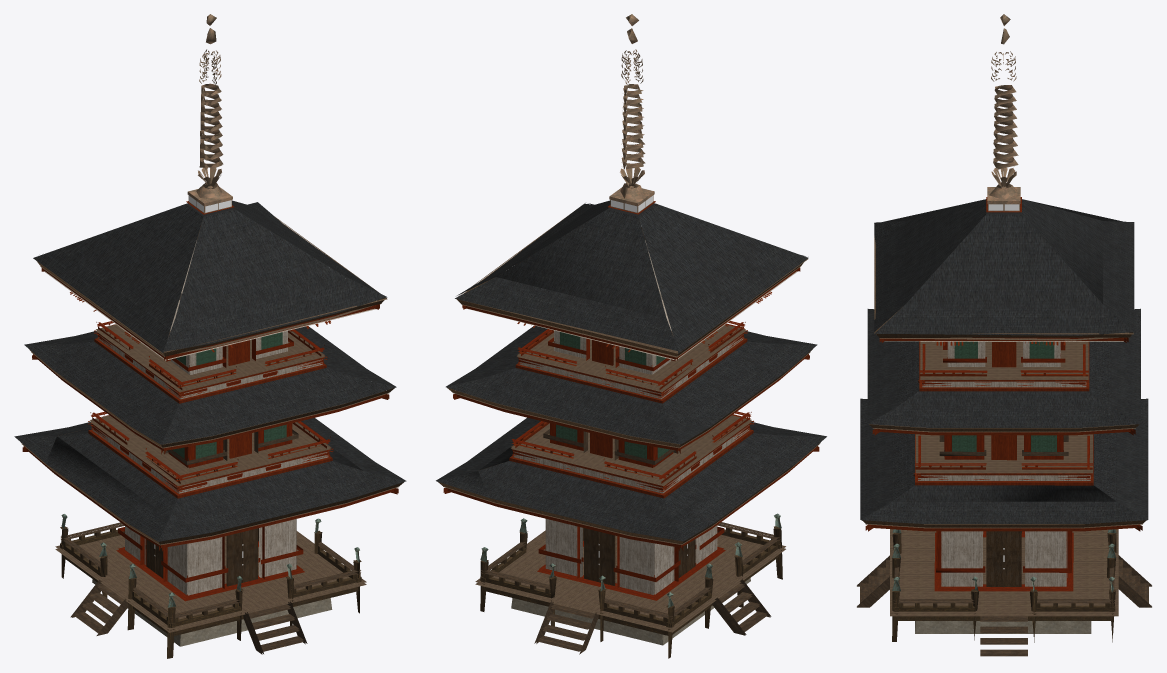
Rendered from Pagoda_Sanju_13m.gltf.
3 views of the same model, side by side, from view 1: azimuth 30°, elevation 25°; view 2: azimuth 150°, elevation 25°; view 3: azimuth 270°, elevation 25° (orthographic).
Parts seen in each view (by area): view 1: Roof3_LOD0.002, Roof1_LOD0.005, Roof2_LOD0.005, Base_LOD0.005, Wall1_LOD0.005, Sorin_LOD0.005, Wall2_LOD0.005, Wall3_LOD0.002, Door_SR_LOD0.005, Door_SL_LOD0.005; view 2: Roof3_LOD0.002, Roof1_LOD0.005, Roof2_LOD0.005, Base_LOD0.005, Wall1_LOD0.005, Sorin_LOD0.005, Wall2_LOD0.005, Wall3_LOD0.002, Door_NR_LOD0.005, Door_NL_LOD0.005; view 3: Roof3_LOD0.002, Roof1_LOD0.005, Roof2_LOD0.005, Base_LOD0.005, Wall1_LOD0.005, Sorin_LOD0.005, Wall2_LOD0.005, Wall3_LOD0.002, Door_ER_LOD0.005, Door_EL_LOD0.005.
Boxes of the visible parts, x1,y1,x2,y2 form: Roof3_LOD0.002: (33, 200, 387, 360); Roof1_LOD0.005: (14, 411, 406, 547); Roof2_LOD0.005: (24, 321, 396, 450); Base_LOD0.005: (55, 514, 366, 658); Wall1_LOD0.005: (22, 446, 398, 601); Sorin_LOD0.005: (187, 14, 232, 213); Wall2_LOD0.005: (32, 354, 389, 468); Wall3_LOD0.002: (41, 235, 379, 374); Door_SR_LOD0.005: (242, 528, 257, 582); Door_SL_LOD0.005: (226, 532, 241, 586); Roof3_LOD0.002: (455, 200, 808, 360); Roof1_LOD0.005: (436, 411, 826, 547); Roof2_LOD0.005: (446, 321, 817, 450); Base_LOD0.005: (475, 513, 785, 658); Wall1_LOD0.005: (443, 446, 819, 600); Sorin_LOD0.005: (609, 14, 654, 213); Wall2_LOD0.005: (453, 354, 809, 467); Wall3_LOD0.002: (462, 235, 800, 374); Door_NR_LOD0.005: (598, 531, 615, 585); Door_NL_LOD0.005: (584, 528, 598, 581); Roof3_LOD0.002: (874, 197, 1134, 345); Roof1_LOD0.005: (860, 398, 1148, 531); Roof2_LOD0.005: (867, 308, 1140, 435); Base_LOD0.005: (857, 529, 1151, 656); Wall1_LOD0.005: (865, 525, 1142, 591); Sorin_LOD0.005: (987, 14, 1020, 211); Wall2_LOD0.005: (872, 429, 1135, 460); Wall3_LOD0.002: (879, 337, 1128, 367); Door_ER_LOD0.005: (1003, 531, 1021, 587); Door_EL_LOD0.005: (986, 531, 1003, 586).
Size of the model in its own units: 6.94 by 15.08 by 6.95.
Materials: 15 (14 with a texture image).
